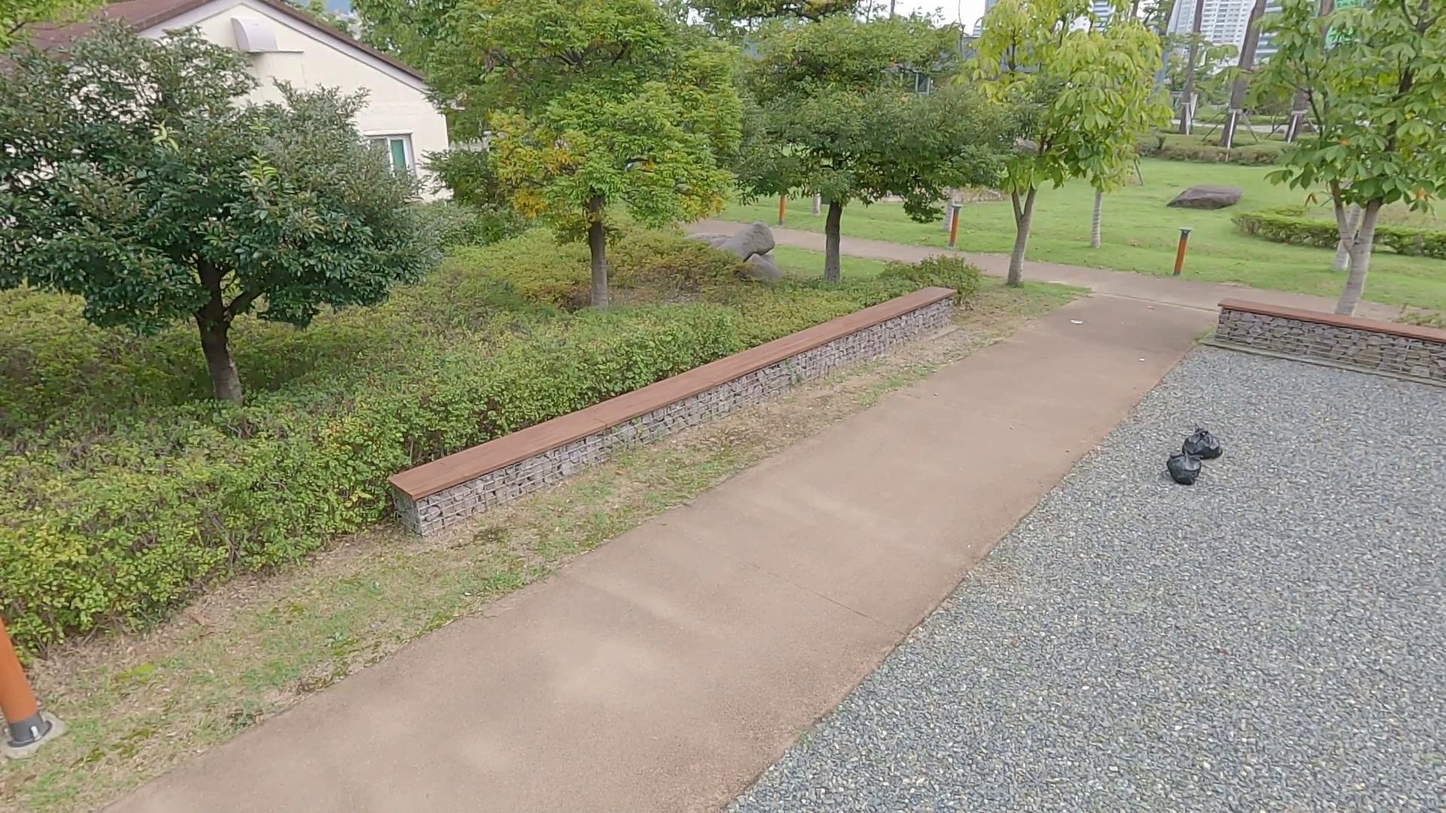trash: (1166, 443, 1202, 480), (1185, 425, 1222, 460)
